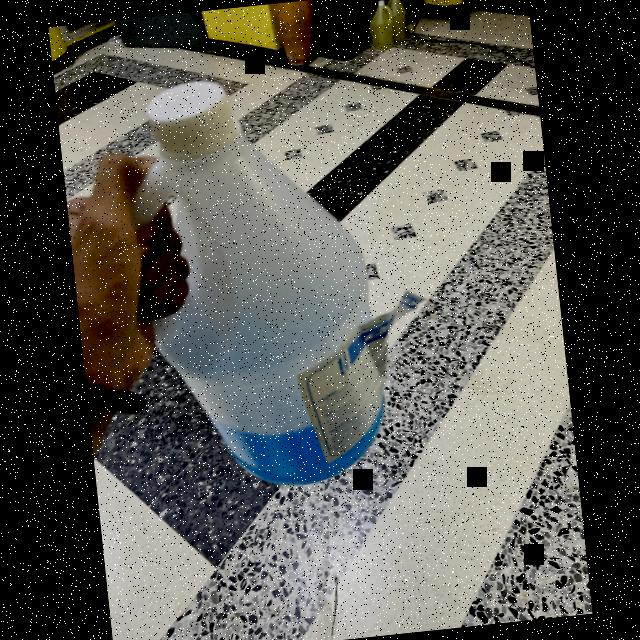chemical_plastic_gallon: (80, 67, 422, 499), (354, 1, 398, 58), (382, 0, 412, 40)
